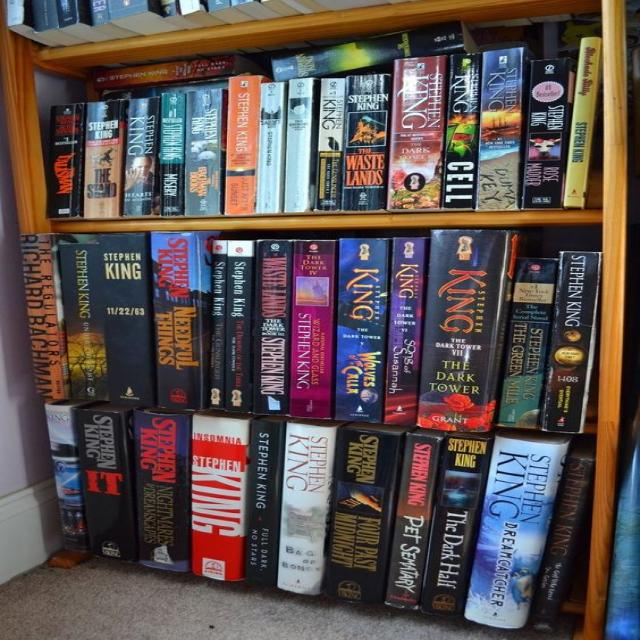book: (420, 229, 508, 432), (465, 436, 555, 628), (321, 427, 403, 603), (421, 435, 488, 616), (273, 21, 466, 81), (494, 258, 559, 429), (531, 455, 594, 630), (542, 250, 600, 433), (384, 434, 441, 608), (336, 240, 389, 423), (98, 233, 153, 407), (279, 422, 334, 595), (192, 415, 248, 582), (73, 410, 134, 561), (132, 411, 189, 572), (151, 230, 200, 411), (388, 55, 445, 209), (287, 240, 335, 420), (384, 239, 427, 425), (18, 234, 66, 398), (476, 47, 524, 210), (61, 243, 109, 401), (252, 240, 294, 415), (341, 74, 390, 210), (523, 58, 567, 208), (243, 420, 282, 587), (563, 37, 601, 206), (44, 404, 86, 551), (443, 54, 479, 208), (120, 97, 163, 217), (225, 241, 254, 413), (226, 76, 261, 214), (184, 90, 222, 216), (83, 100, 122, 217), (95, 55, 235, 87), (47, 101, 85, 218), (314, 78, 344, 210), (285, 78, 314, 212), (258, 82, 285, 213), (209, 240, 228, 410), (161, 91, 186, 217)
